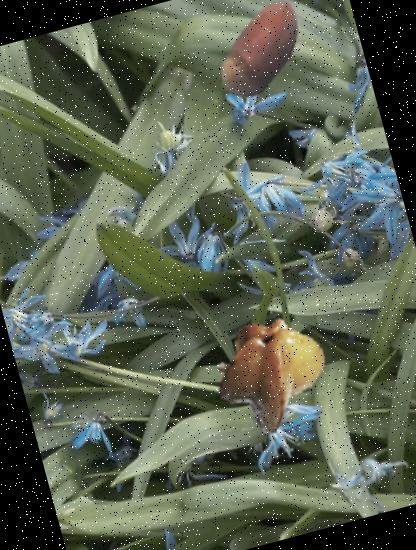Carambula: (199, 305, 336, 442)
Hazelnut: (194, 0, 331, 117)
